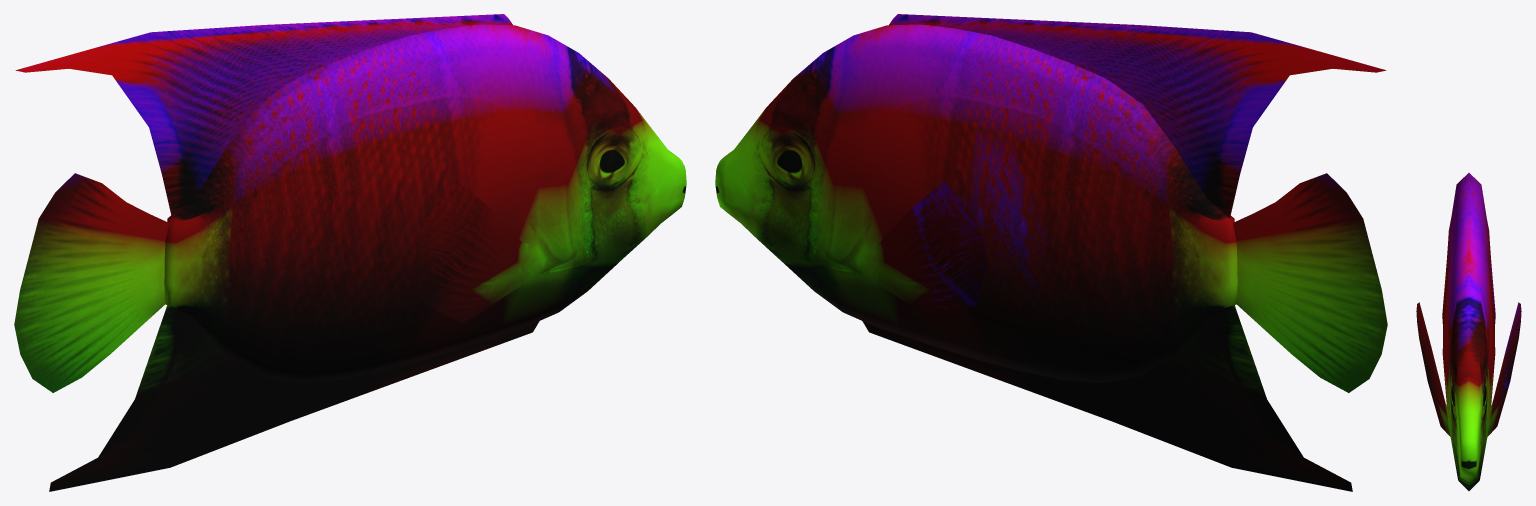
Rendered from queen_angelfish.glb.
The picture shows the model from 3 angles, left to right: view 1: azimuth 30°, elevation 25°; view 2: azimuth 150°, elevation 25°; view 3: azimuth 270°, elevation 25°; orthographic projection. The views are drawn at different scales.
Visible parts, largest first — view 1: QueenAngelfish; view 2: QueenAngelfish; view 3: QueenAngelfish.
Part boxes in pixels (x1,y1,x2,y2): QueenAngelfish: (14,14,686,491); QueenAngelfish: (715,14,1387,491); QueenAngelfish: (1416,173,1521,490).
Size of the model in its own units: 1 by 0.6267 by 0.1818.
Materials: 1 (1 with a texture image).
